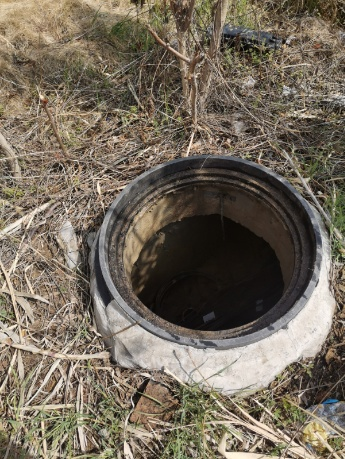lose: (99, 153, 324, 349)
